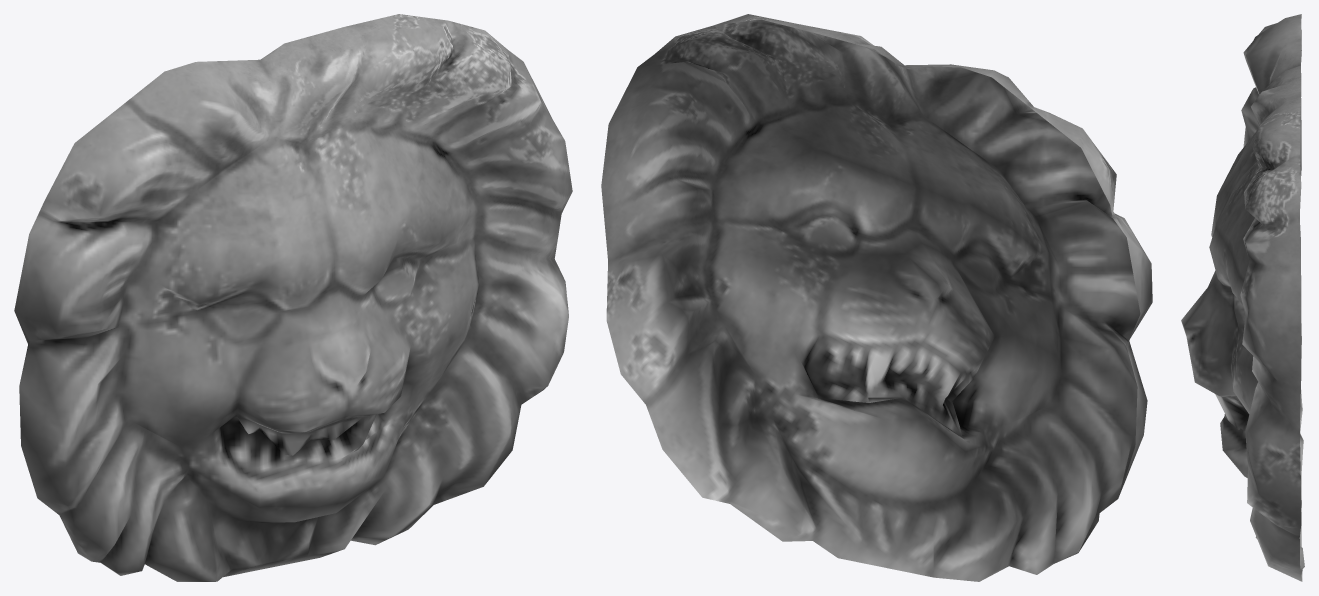
File: SM_TempleTrim_Frame_Lion.fbx
3 renders of one model, left to right at view 1: azimuth 30°, elevation 25°; view 2: azimuth 150°, elevation 25°; view 3: azimuth 270°, elevation 25°, orthographic. The views are drawn at different scales.
Visible parts, largest first — view 1: SM_TempleTrim_Frame_Lion; view 2: SM_TempleTrim_Frame_Lion; view 3: SM_TempleTrim_Frame_Lion.
Part boxes in pixels (x1,y1,x2,y2): SM_TempleTrim_Frame_Lion: [14, 14, 572, 581]; SM_TempleTrim_Frame_Lion: [601, 14, 1152, 581]; SM_TempleTrim_Frame_Lion: [1181, 14, 1304, 581].
Bounding box in the file's own units: 218 × 201 × 48.25.
Materials: 1 (1 with a texture image).
